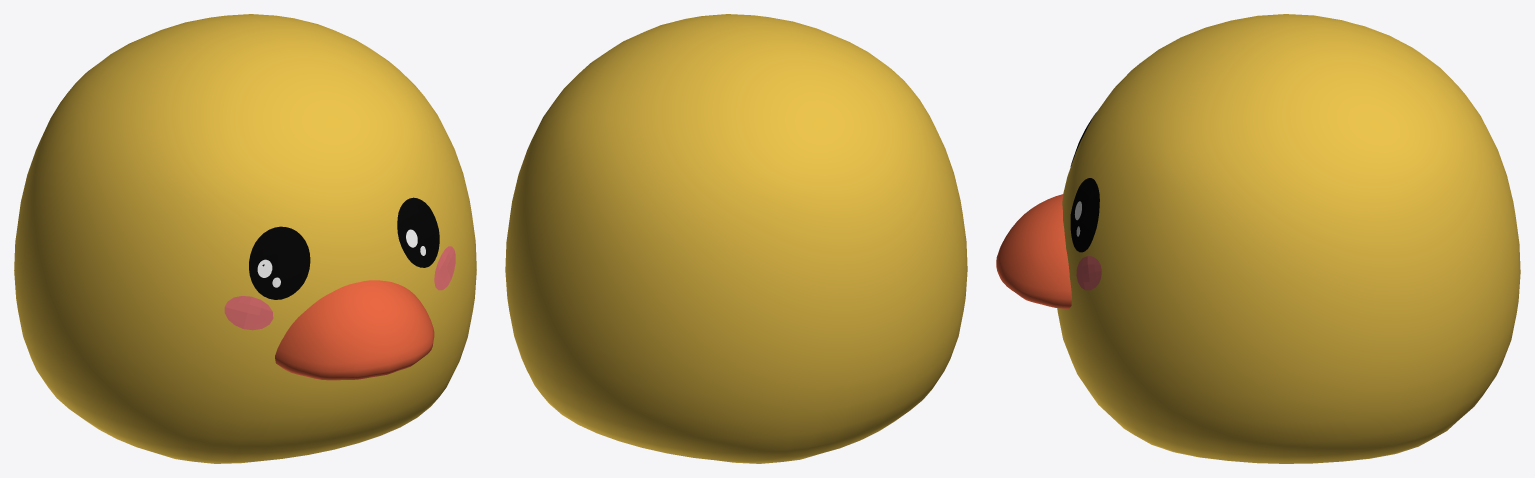
File: slime5.fbx
The picture shows the model from 3 angles, left to right: view 1: azimuth 30°, elevation 25°; view 2: azimuth 150°, elevation 25°; view 3: azimuth 270°, elevation 25°; orthographic projection.
Parts seen in each view (by area): view 1: Cube.004, Roundcube.004, Plane.019, Plane.020, Plane.021, Plane.022; view 2: Cube.004; view 3: Cube.004, Roundcube.004, Plane.020, Plane.022.
Part boxes in pixels (box(x1,y1,x2,y2)): Cube.004: box(14, 14, 476, 463); Roundcube.004: box(275, 280, 434, 380); Plane.019: box(249, 226, 310, 299); Plane.020: box(397, 197, 439, 267); Plane.021: box(224, 296, 273, 330); Plane.022: box(434, 246, 455, 290); Cube.004: box(505, 14, 967, 463); Cube.004: box(1057, 14, 1520, 463); Roundcube.004: box(996, 194, 1071, 308); Plane.020: box(1070, 178, 1099, 252); Plane.022: box(1076, 256, 1101, 290).
Size of the model in its own units: 327 by 281 by 367.
